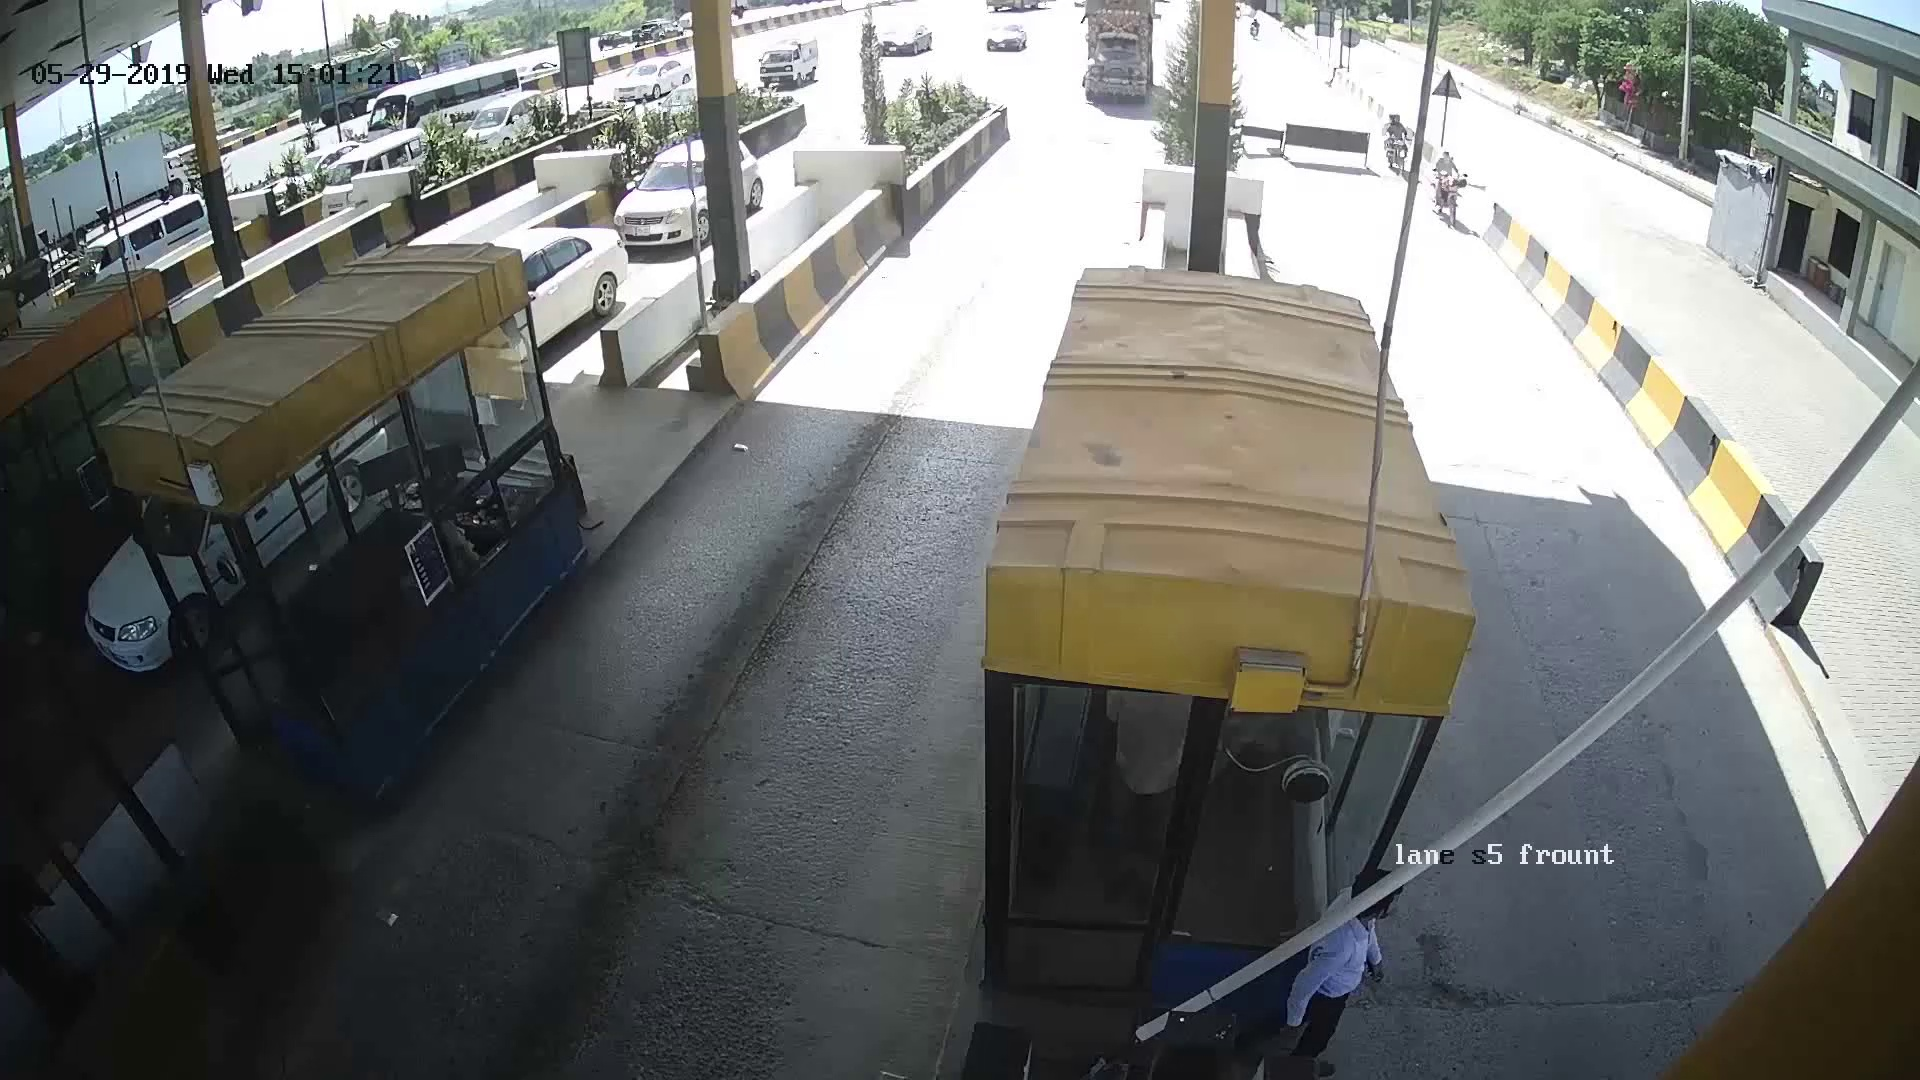truck: (1064, 16, 1160, 119)
